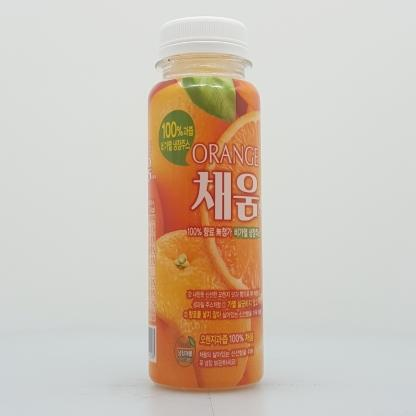--------210ML: (148, 16, 264, 391)
